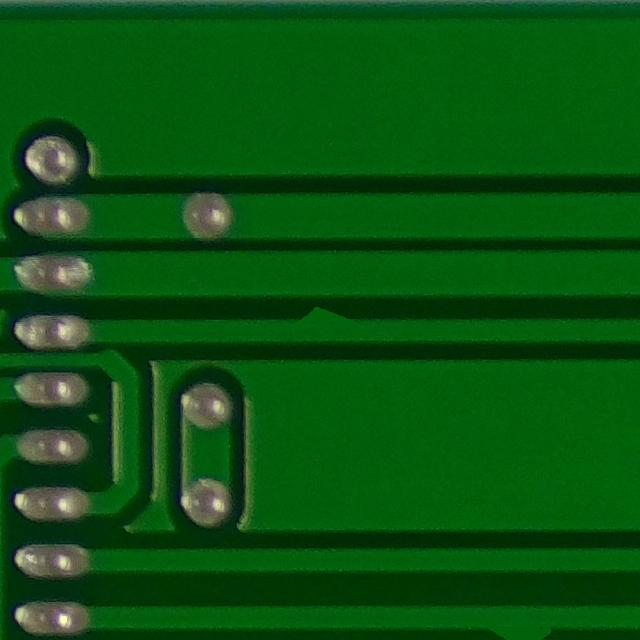spur: (279, 296, 361, 344)
